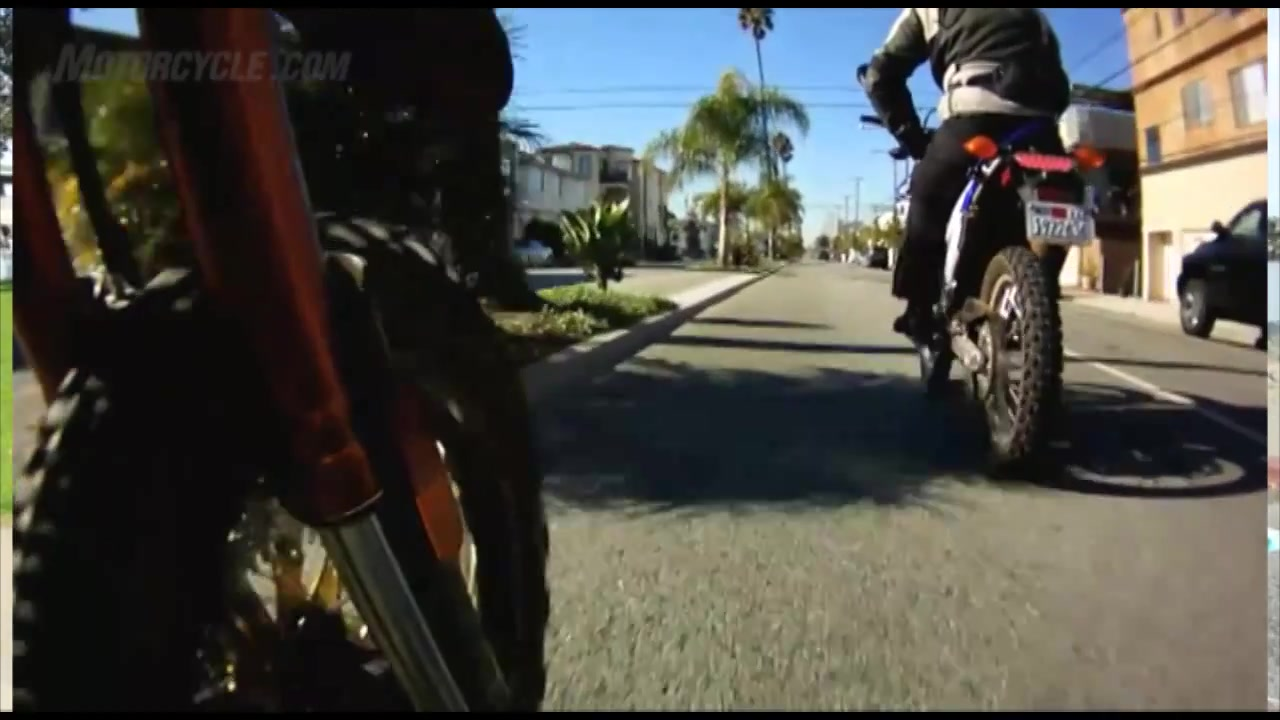motorbike: (856, 110, 1112, 468)
